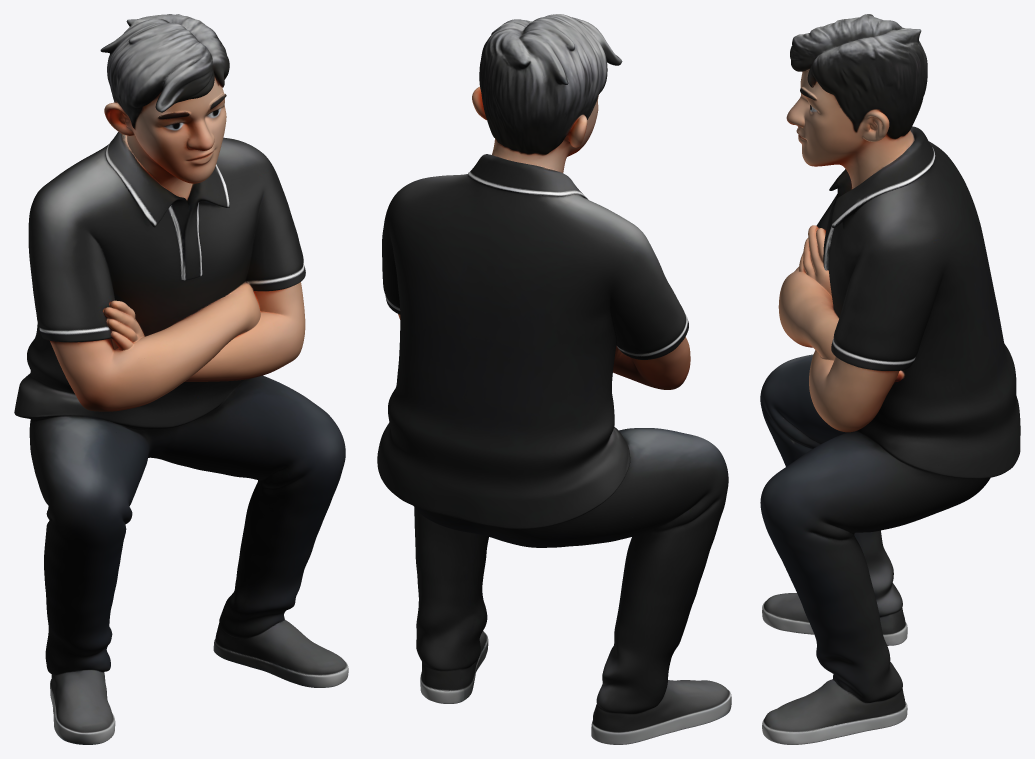
Rendered from AlfonFS.fbx.
The picture shows the model from 3 angles, left to right: view 1: azimuth 30°, elevation 25°; view 2: azimuth 150°, elevation 25°; view 3: azimuth 270°, elevation 25°; orthographic projection. The views are drawn at different scales.
Visible parts, largest first — view 1: tripo_node_0d733591; view 2: tripo_node_0d733591; view 3: tripo_node_0d733591.
Part boxes in pixels (x1,y1,x2,y2): tripo_node_0d733591: (14, 14, 348, 744); tripo_node_0d733591: (377, 14, 731, 744); tripo_node_0d733591: (760, 14, 1020, 744).
Bounding box in the file's own units: 0.4564 × 1 × 0.3593.
